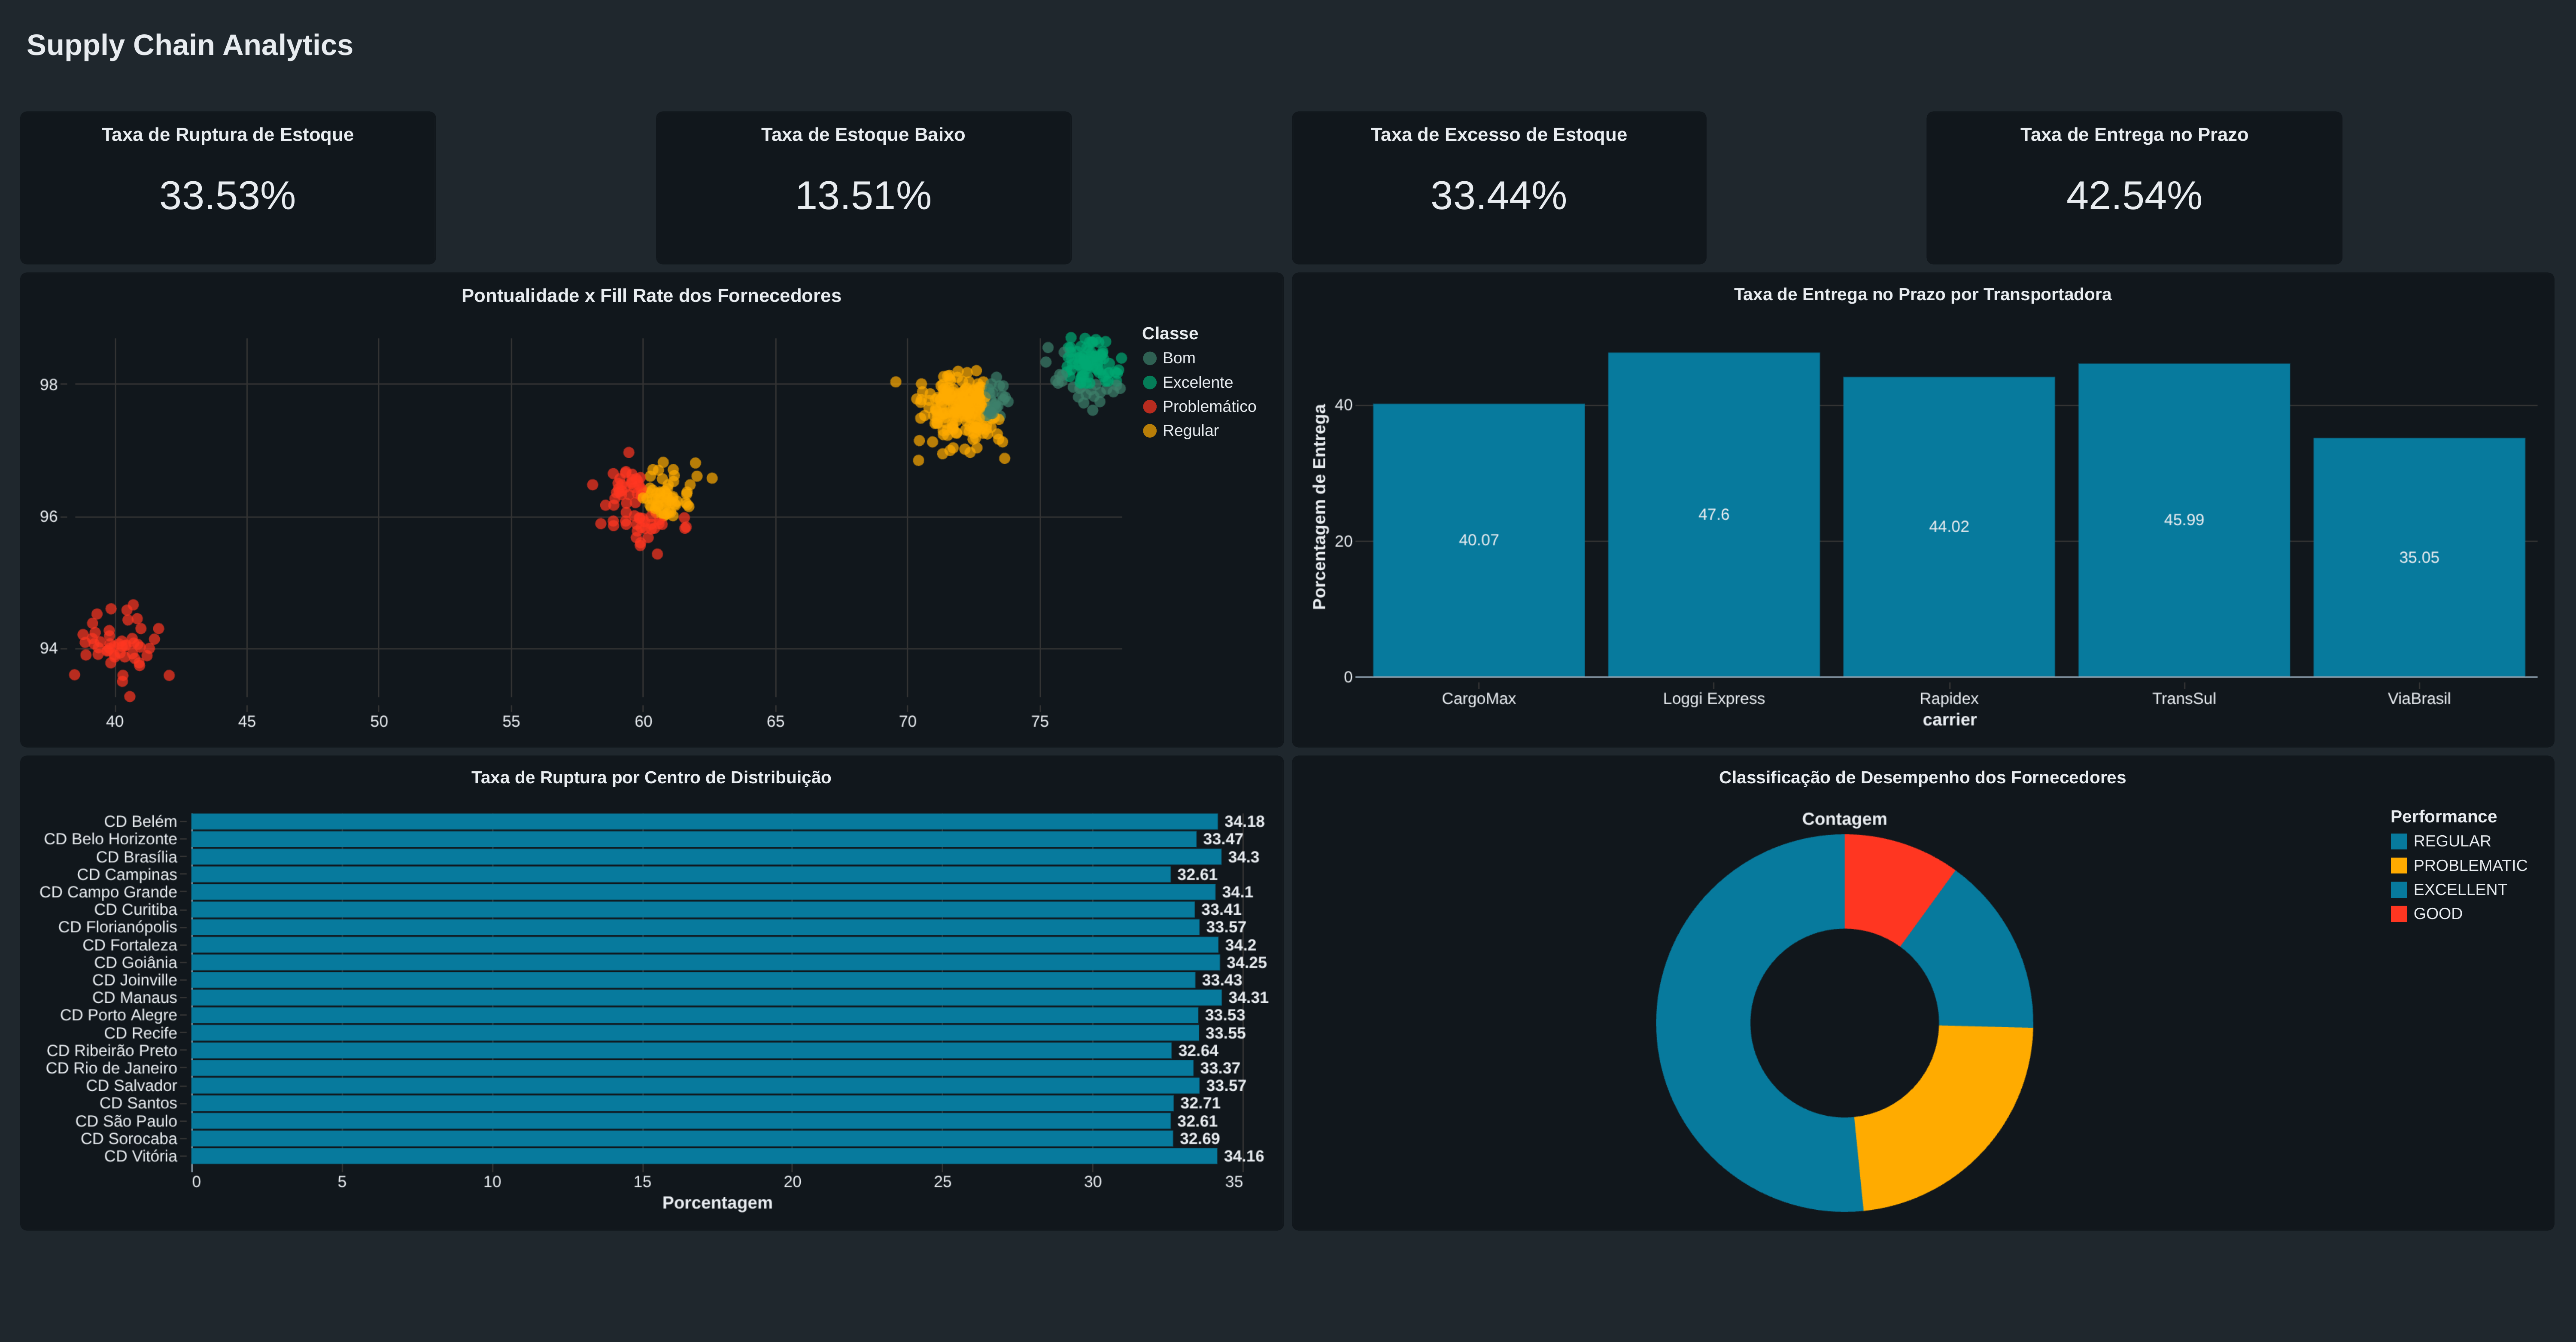

The dashboard page shown, as its layout file describes it:
{"tool":"powerbi","page":{"name":"Visão Executiva","canvas":[1280,720],"ordinal":0},"visuals":[{"type":"cardVisual","fields":{"Data":["inventory_analysis.Valor Total em Estoque"]},"box":[264.5,8.2,200.9,94.5],"z":0},{"type":"cardVisual","fields":{"Data":["inventory_analysis.Valor em Excesso de Estoque"]},"box":[537.3,8.2,235.5,94.5],"z":1000},{"type":"cardVisual","fields":{"Data":["inventory_analysis.Taxa de Entrega no Prazo"]},"box":[853.6,8.2,212.7,94.5],"z":2000},{"type":"treemap","title":"Valor de Estoque por Categoria","fields":{"Group":["inventory_analysis.category"],"Values":["inventory_analysis.Valor Total em Estoque"]},"box":[10.9,112.7,640,296.4],"z":3000},{"type":"lineClusteredColumnComboChart","title":"Top 10 CDs com Maior Ruptura e Taxa de Entrega no Prazo","fields":{"Category":["warehouse_performance.warehouse_name"],"Y":["Avg(warehouse_performance.stockout_rate_pct)"],"Y2":["Avg(warehouse_performance.on_time_delivery_rate_pct)"]},"box":[671,420,600,289],"z":4000},{"type":"donutChart","title":"Fornecedores por Desempenho","fields":{"Category":["supplier_performance.performance_class"],"Y":["CountNonNull(supplier_performance.supplier_id)"]},"box":[671,113,600,295],"z":5000},{"type":"scatterChart","title":"Fornecedores: Pontualidade x Fill Rate","fields":{"Category":["supplier_performance.supplier_name"],"X":["Avg(supplier_performance.on_time_delivery_rate_pct)"],"Y":["Avg(supplier_performance.fill_rate_pct)"],"Series":["supplier_performance.performance_class"]},"box":[11,420,640,289],"z":6000}]}

Visuals, with their boxes on the page's 1280x720 design canvas (x1, y1, x2, y2). These are canvas units, not pixel positions in the 2576x1342 screenshot, which may show the page scaled, cropped or inside an application window:
cardVisual - inventory_analysis.Valor Total em Estoque: (left=264, top=8, right=465, bottom=103)
cardVisual - inventory_analysis.Valor em Excesso de Estoque: (left=537, top=8, right=773, bottom=103)
cardVisual - inventory_analysis.Taxa de Entrega no Prazo: (left=854, top=8, right=1066, bottom=103)
"Valor de Estoque por Categoria" treemap: (left=11, top=113, right=651, bottom=409)
"Top 10 CDs com Maior Ruptura e Taxa de Entrega no Prazo" lineClusteredColumnComboChart: (left=671, top=420, right=1271, bottom=709)
"Fornecedores por Desempenho" donutChart: (left=671, top=113, right=1271, bottom=408)
"Fornecedores: Pontualidade x Fill Rate" scatterChart: (left=11, top=420, right=651, bottom=709)
